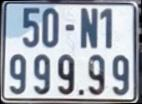-: (66, 25, 74, 30)
.: (79, 90, 84, 95)
0: (42, 8, 59, 48)
1: (100, 8, 112, 49)
5: (23, 9, 39, 47)
9: (88, 54, 105, 95), (10, 54, 26, 94), (34, 54, 50, 94), (58, 54, 74, 94), (113, 56, 128, 94)
N: (81, 9, 97, 48)
